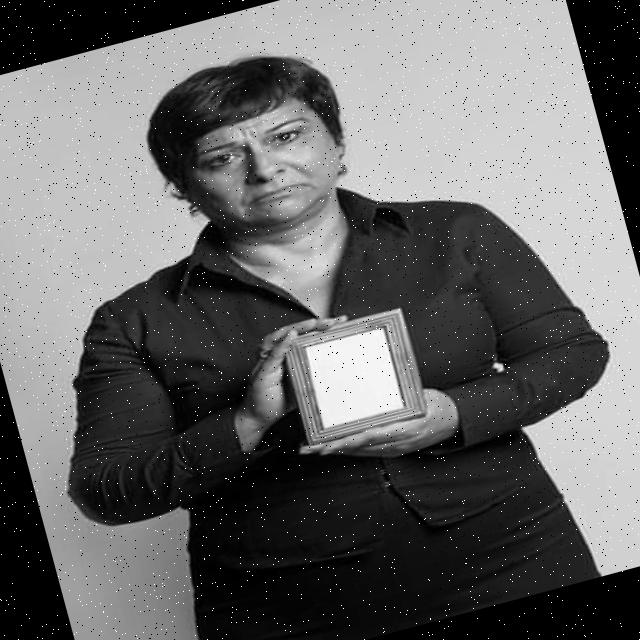Sadness: (185, 92, 337, 238)
